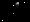person: (11, 4, 19, 16)
